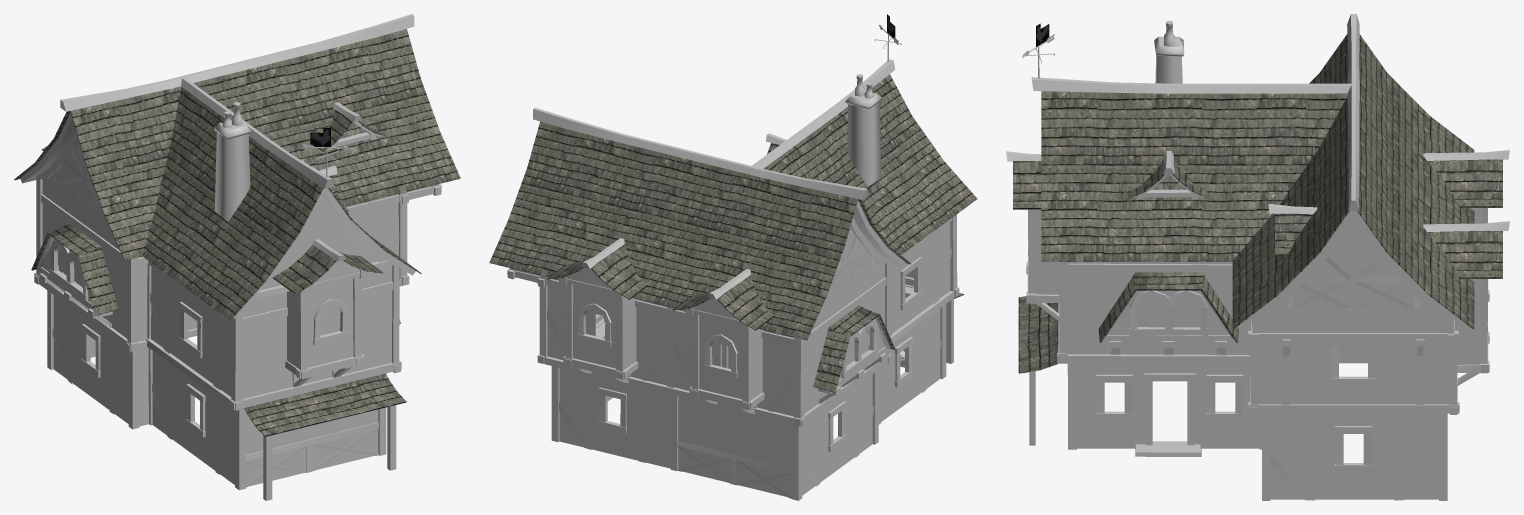
File: mw_type_1_cottage_05_LOD1.FBX
3 views of the same model, side by side, from view 1: azimuth 30°, elevation 25°; view 2: azimuth 150°, elevation 25°; view 3: azimuth 270°, elevation 25° (orthographic). The views are drawn at different scales.
Visible parts, largest first — view 1: mw_type_1_cottage_05_roof, mw_type_1_cottage_05_wood, mw_type_1_cottage_05_stone, mw_type_1_cottage_07_vane; view 2: mw_type_1_cottage_05_roof, mw_type_1_cottage_05_stone, mw_type_1_cottage_05_wood; view 3: mw_type_1_cottage_05_roof, mw_type_1_cottage_05_wood, mw_type_1_cottage_05_stone.
Part boxes in pixels (x1,y1,x2,y2): mw_type_1_cottage_05_roof: [14, 29, 460, 436]; mw_type_1_cottage_05_wood: [20, 14, 441, 500]; mw_type_1_cottage_05_stone: [42, 102, 398, 486]; mw_type_1_cottage_07_vane: [301, 127, 351, 177]; mw_type_1_cottage_05_roof: [489, 74, 977, 392]; mw_type_1_cottage_05_stone: [547, 74, 950, 496]; mw_type_1_cottage_05_wood: [507, 59, 959, 500]; mw_type_1_cottage_05_roof: [1013, 34, 1502, 373]; mw_type_1_cottage_05_wood: [1006, 14, 1509, 500]; mw_type_1_cottage_05_stone: [1034, 20, 1481, 499].
Size of what is drawn, in the model's own units: 1525 by 1470 by 1734.
